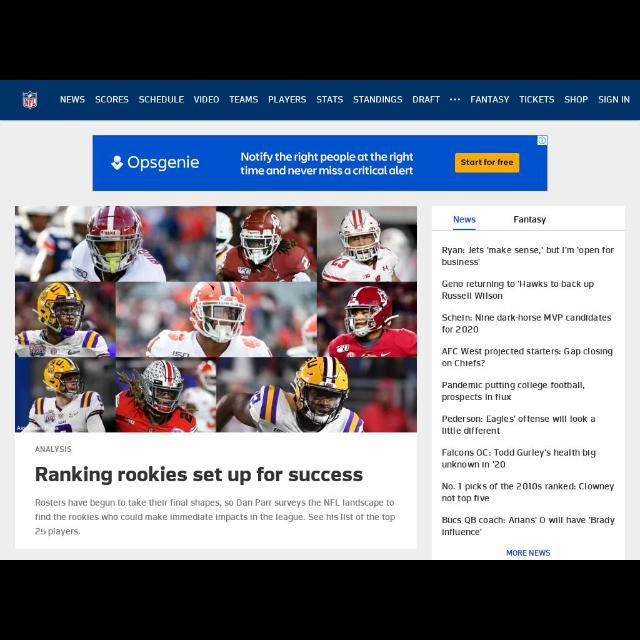icon: (448, 96, 462, 105)
iframe: (92, 136, 550, 190)
image: (17, 205, 419, 433), (21, 90, 41, 112)
multitab: (1, 82, 639, 120), (437, 206, 623, 232)
panel: (434, 205, 626, 559)
text: (438, 238, 618, 534), (34, 465, 398, 535), (446, 208, 484, 232), (139, 92, 185, 106), (501, 546, 551, 558), (266, 92, 308, 106), (353, 94, 403, 105), (32, 444, 78, 454), (598, 94, 632, 106), (96, 94, 130, 105), (472, 95, 512, 104), (316, 93, 344, 105), (414, 94, 442, 106), (508, 216, 550, 224), (230, 94, 258, 105), (193, 94, 220, 105), (519, 98, 557, 104), (58, 94, 84, 102), (565, 96, 589, 102)
